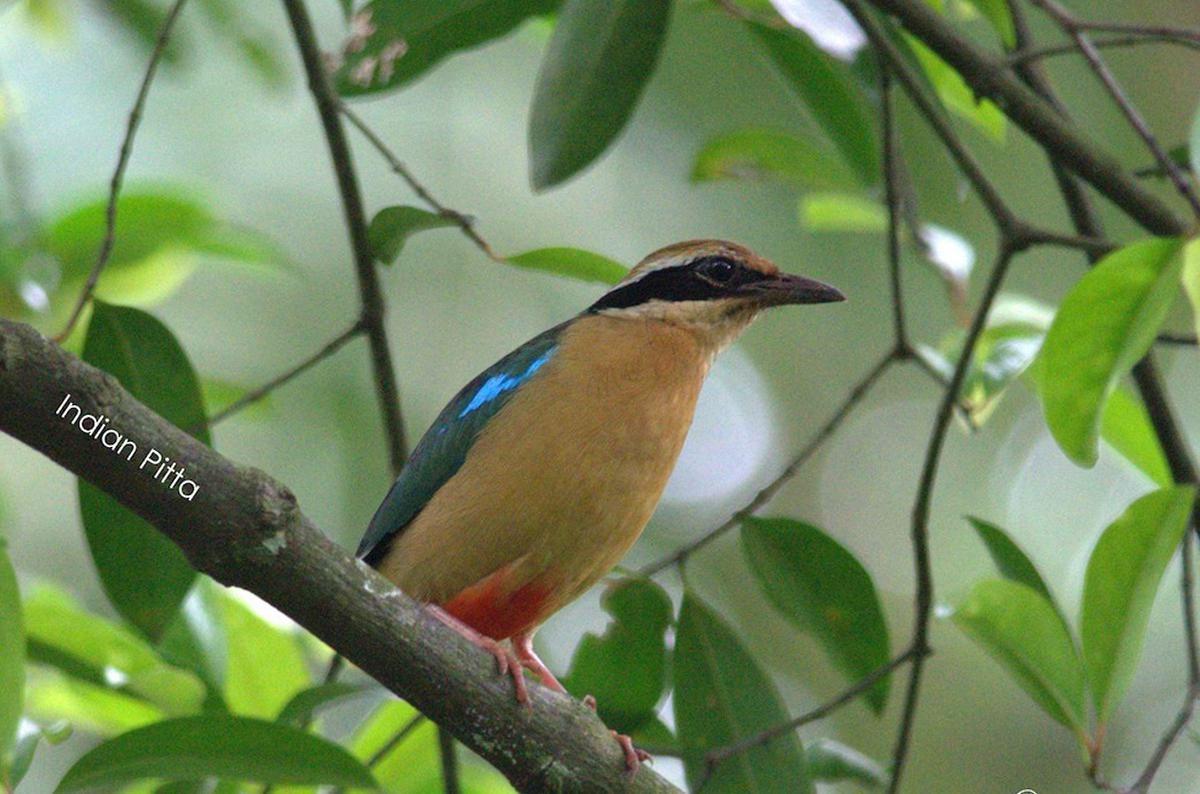pitta: (318, 227, 866, 633)
